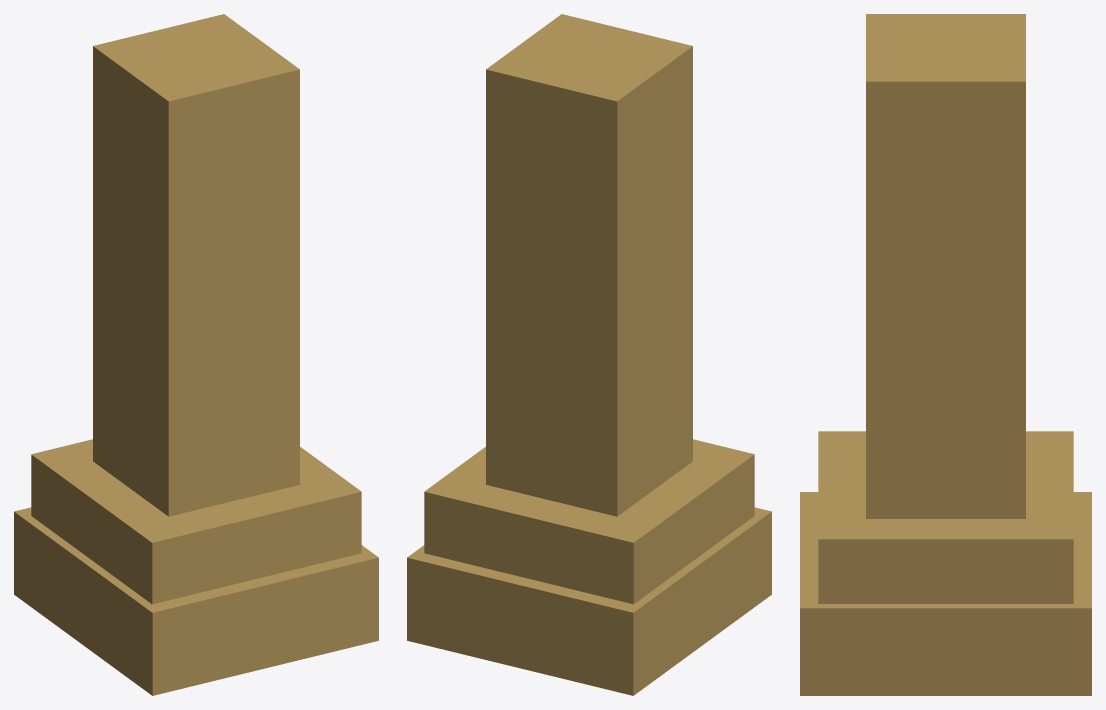
File: Decor_Column.fbx
3 views of the same model, side by side, from view 1: azimuth 30°, elevation 25°; view 2: azimuth 150°, elevation 25°; view 3: azimuth 270°, elevation 25° (orthographic). The views are drawn at different scales.
Visible parts, largest first — view 1: Column; view 2: Column; view 3: Column.
Boxes of the visible parts, x1=… form: Column: x1=14, y1=14, x2=378, y2=695; Column: x1=407, y1=14, x2=771, y2=695; Column: x1=800, y1=14, x2=1091, y2=695.
Size of the model in its own units: 0.8099 by 1.91 by 0.8581.
Materials: 1 (1 with a texture image).
